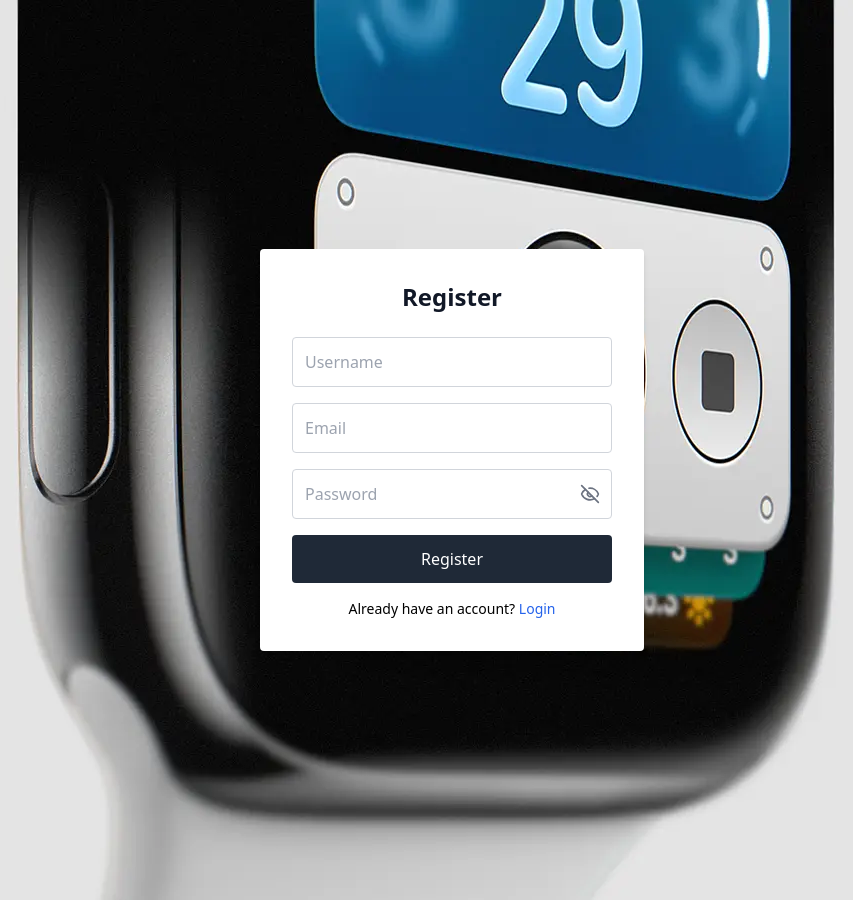
it: RegisterPage › displays error for empty fields
Click the button "Register" at {"x": 452, "y": 559}, box [292,535,612,583]
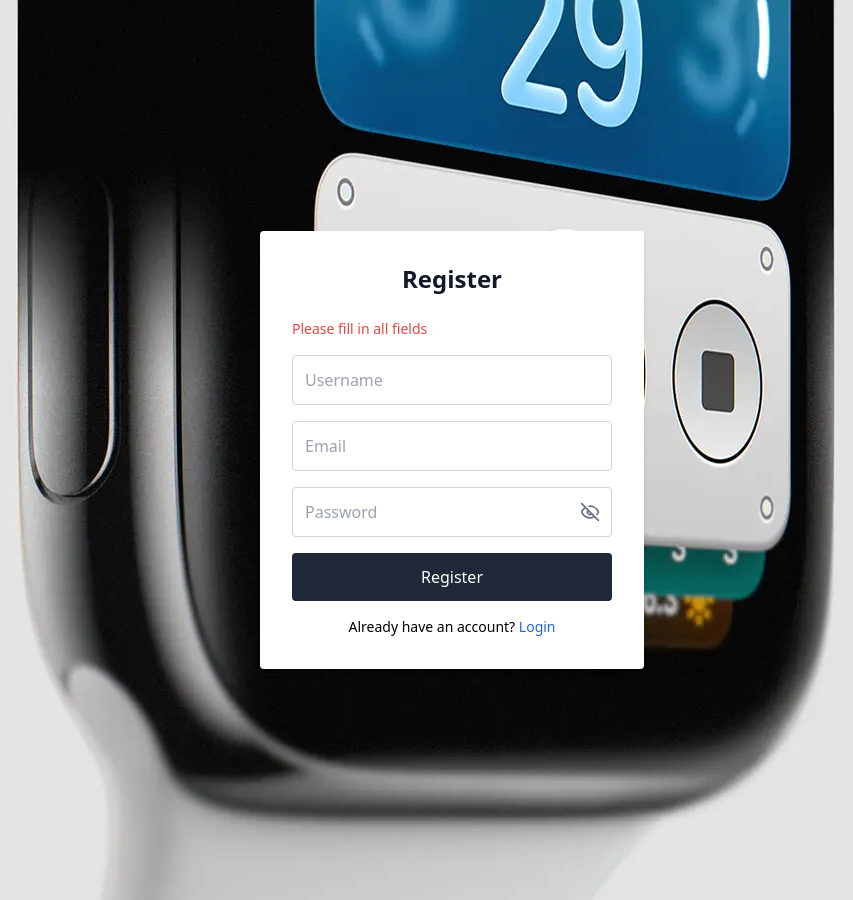
Expected: the text "Please fill in all fields" is shown, [292,319,427,338]
